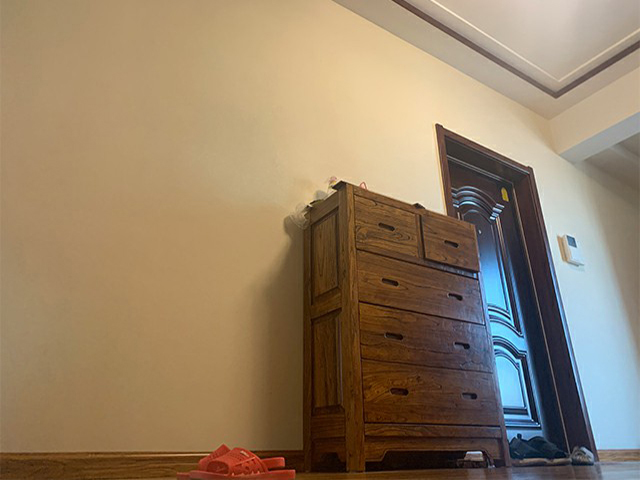cabinet: (299, 181, 513, 472)
slippers: (185, 449, 297, 480)
